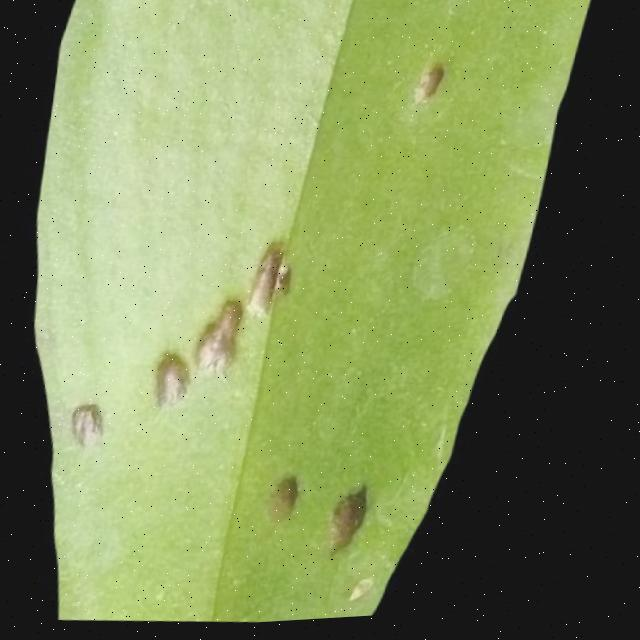mite: (51, 51, 461, 563), (257, 49, 459, 565), (261, 470, 382, 562), (275, 263, 298, 298)
sunburn: (329, 485, 383, 562), (267, 472, 315, 528), (412, 60, 454, 111)
